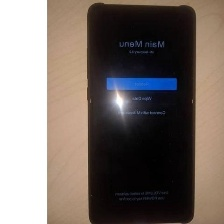phone: (85, 0, 198, 224)
